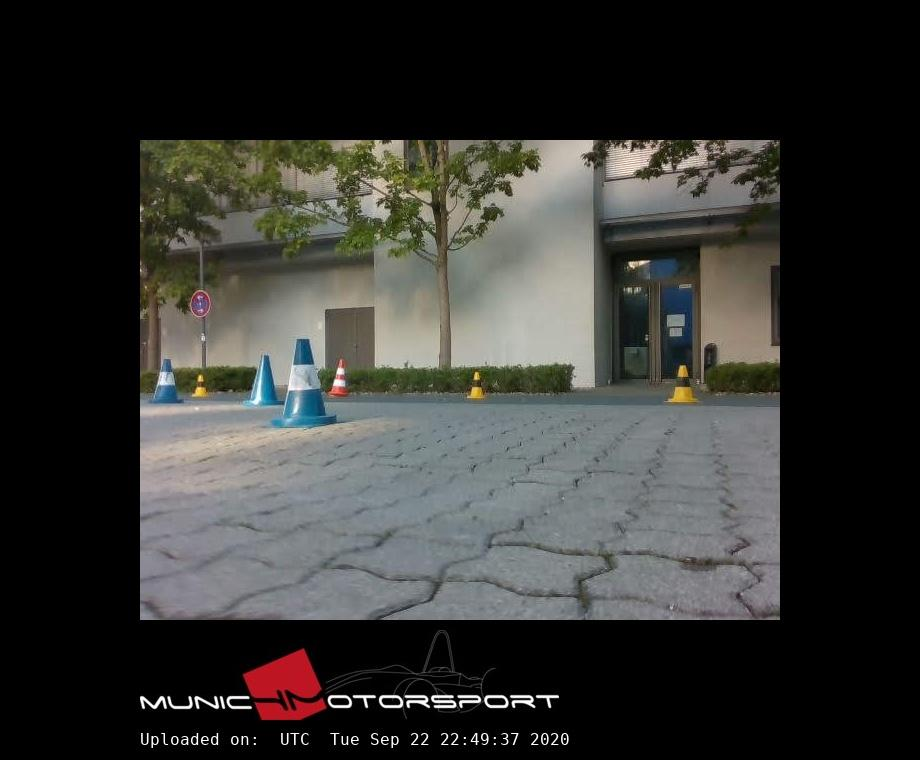blue_cone: (270, 340, 343, 428), (242, 355, 284, 405), (150, 359, 183, 403)
large_orange_cone: (331, 360, 348, 394)
yellow_cone: (666, 366, 696, 402), (467, 372, 485, 399), (193, 375, 208, 396)
